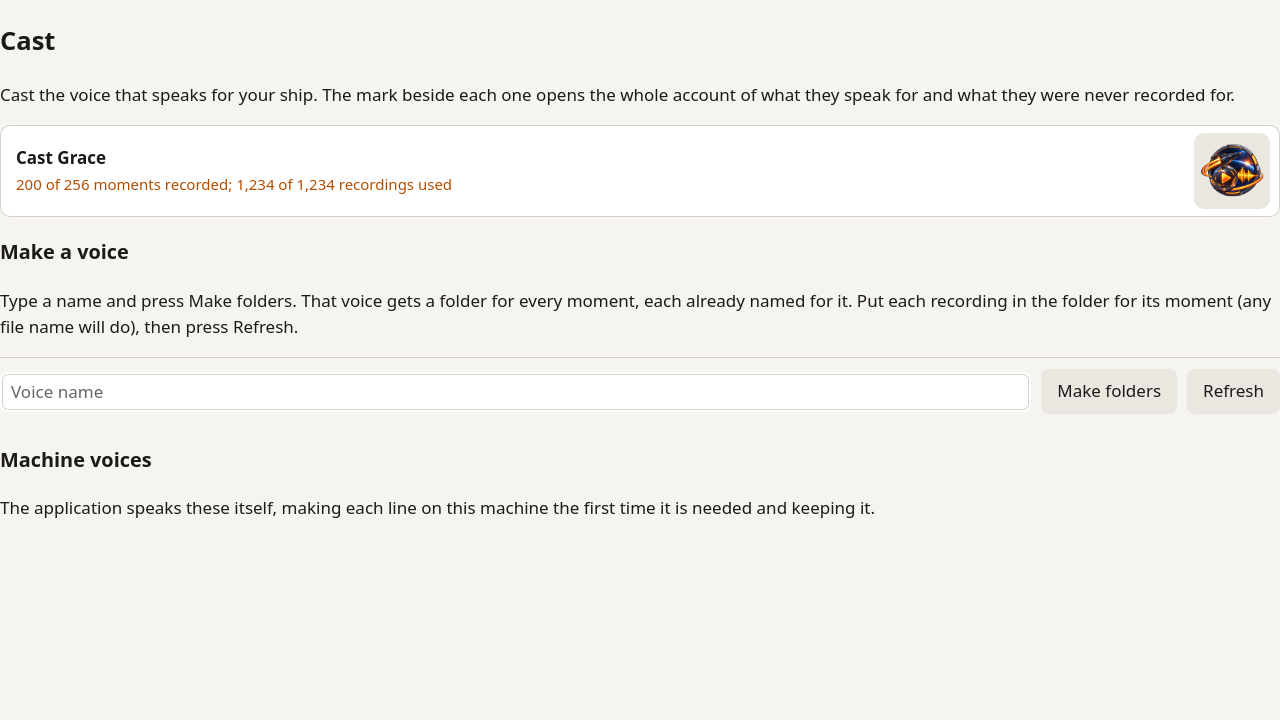
Test case: the breakdown behind a row › opens for the voice whose mark was pressed, then closes again
Click the button named "Moments Grace speaks for" at x=1232, y=171, box [1194,133,1270,209]
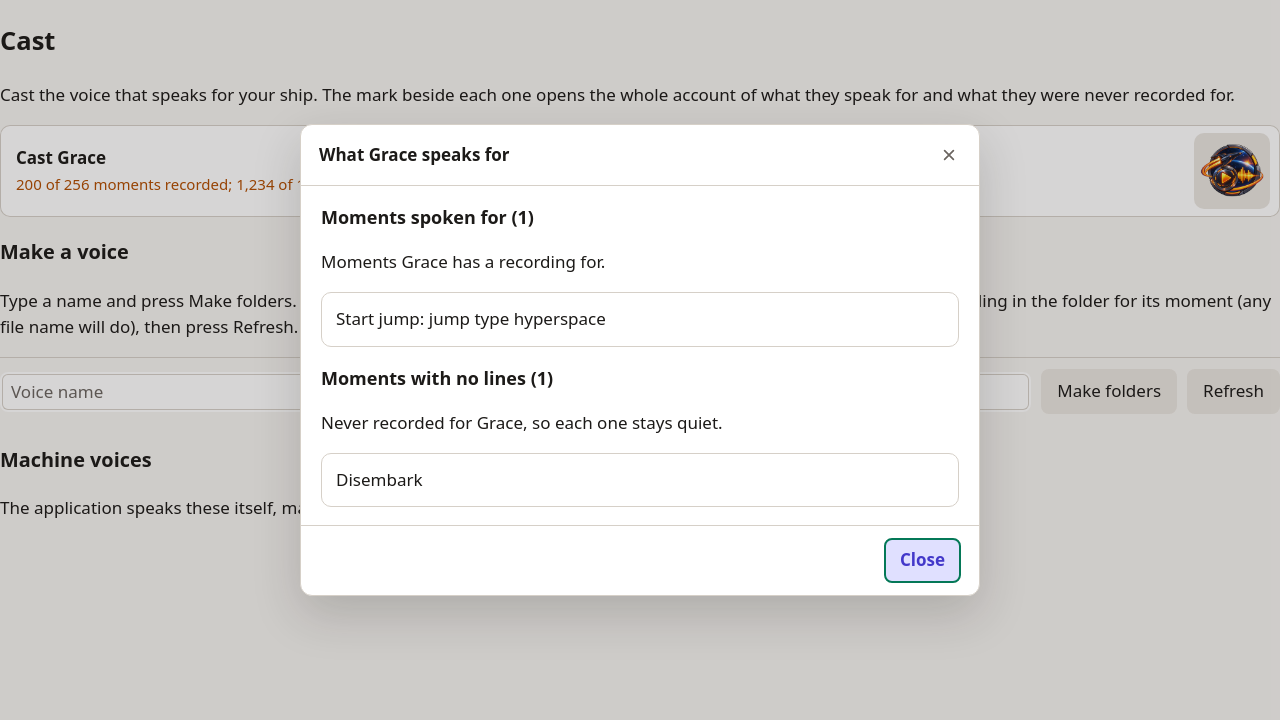
expect the text "Start jump: jump type hyperspace" is shown: met, box [336,304,630,336]
expect the text "Disembark" is shown once: met, box [336,468,422,491]
expect the heading "Moments spoken for (1)" is shown: met, box [321,205,534,229]
Click the button "Close" at x=922, y=561, box [884,538,961,583]
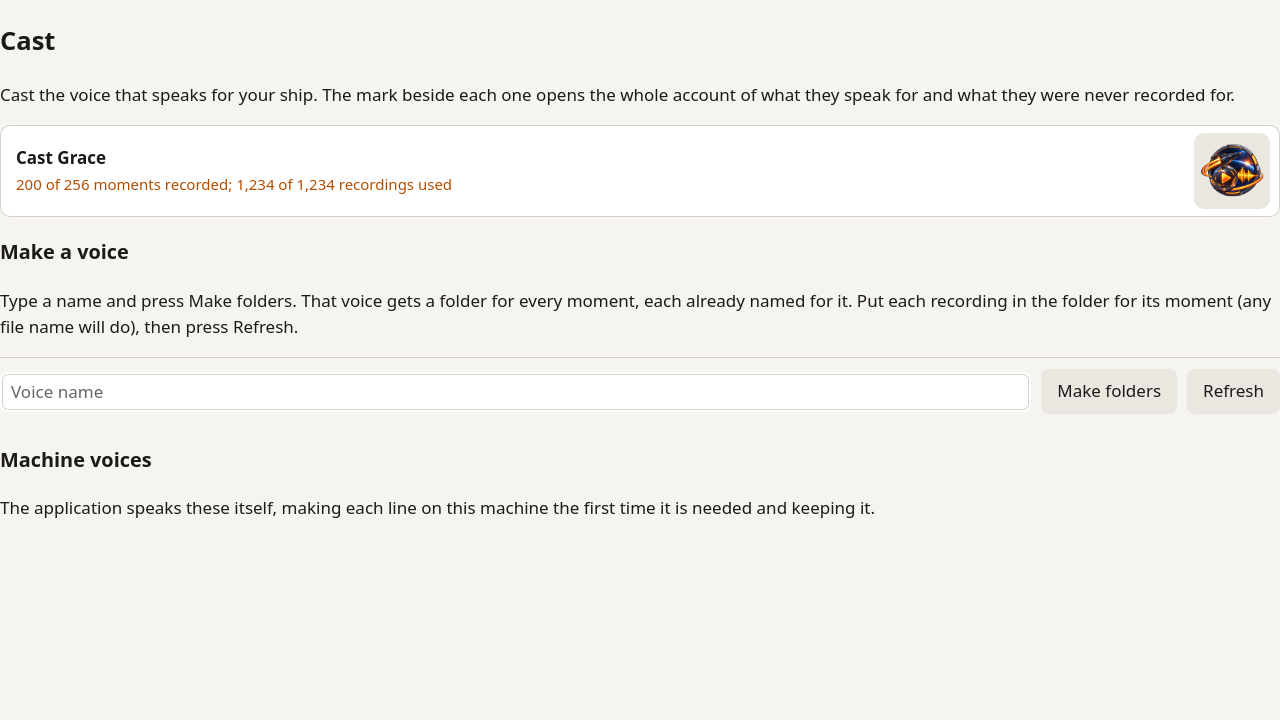
expect the text "Start jump: jump type hyperspace" is gone: met
